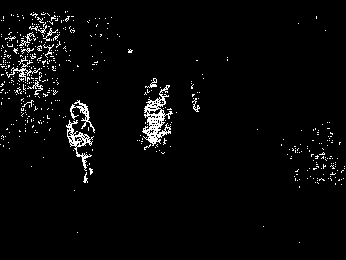person: (65, 98, 102, 183)
